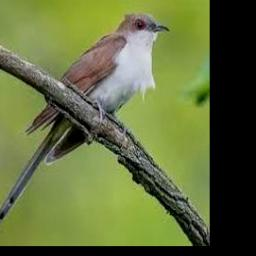Cuckoo: (0, 13, 169, 229)
